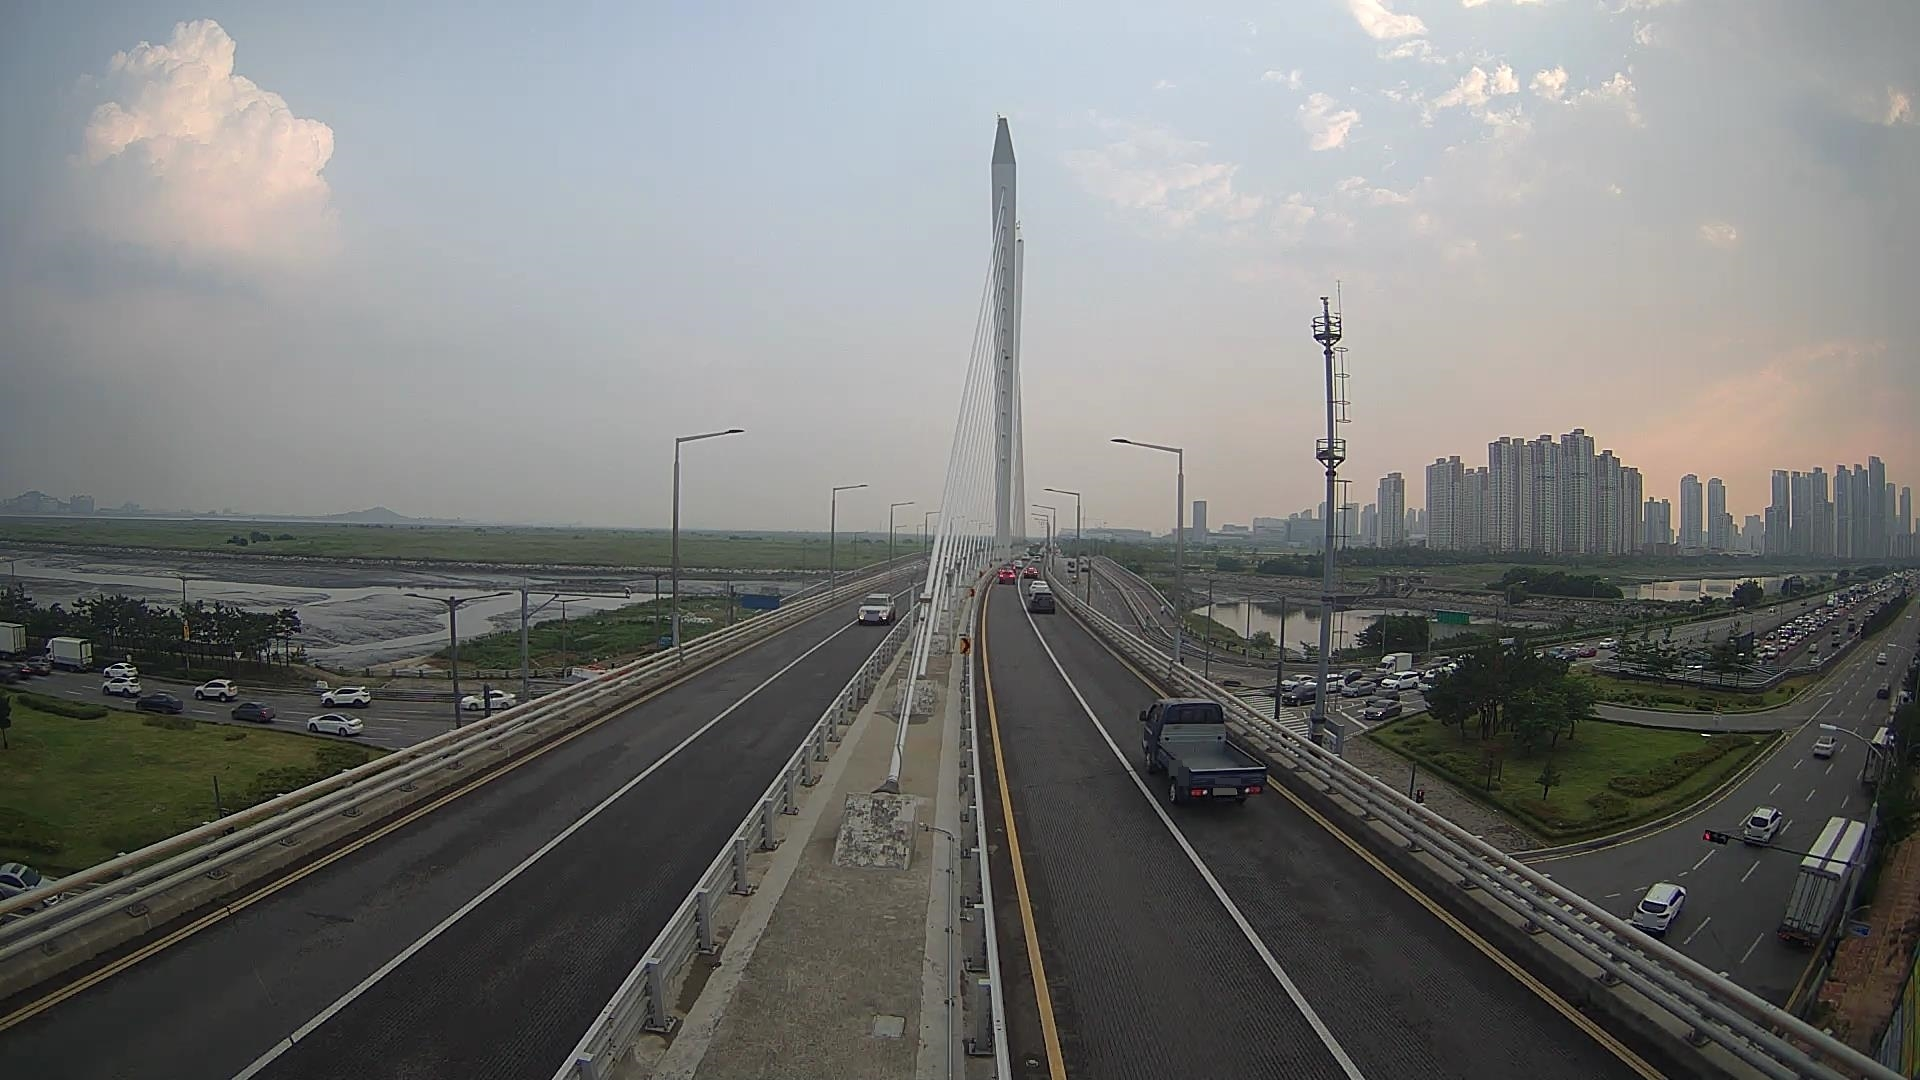정상차량: (1139, 697, 1267, 805)
